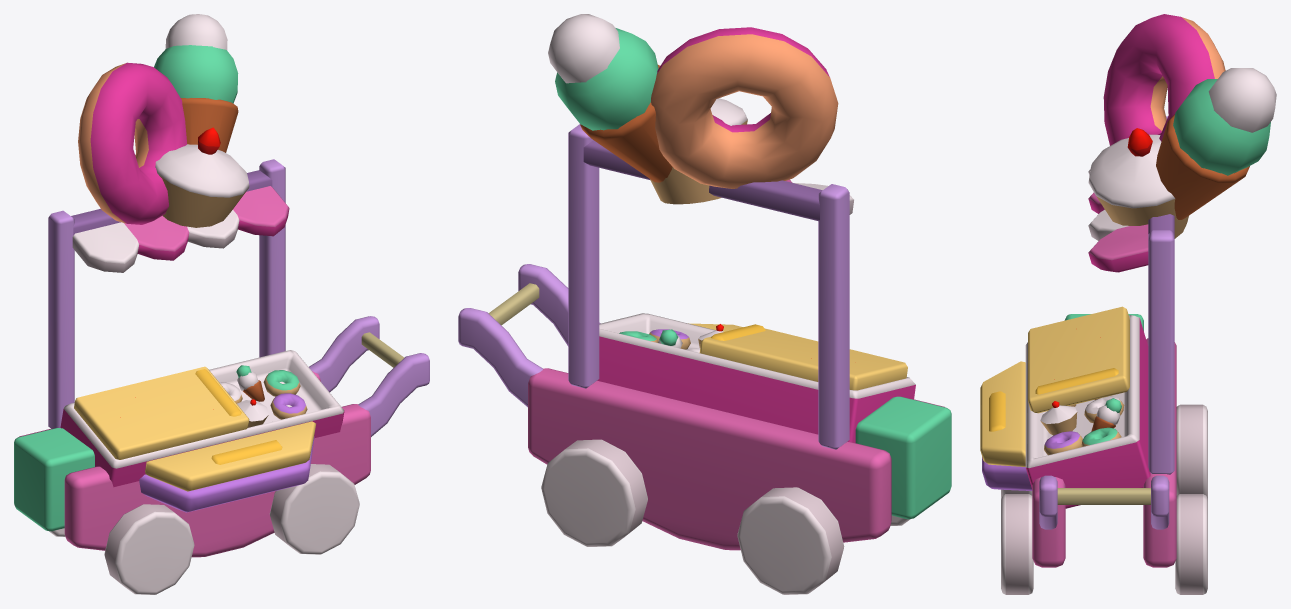
File: food.fbx
3 renders of one model, left to right at view 1: azimuth 30°, elevation 25°; view 2: azimuth 150°, elevation 25°; view 3: azimuth 270°, elevation 25°, orthographic. The views are drawn at different scales.
Visible parts, largest first — view 1: food_01_base; view 2: food_01_base; view 3: food_01_base.
Part boxes in pixels (<box>): food_01_base: <box>14,14,429,594</box>; food_01_base: <box>458,14,951,594</box>; food_01_base: <box>980,14,1276,594</box>.
Size of the model in its own units: 219 by 260 by 136.
